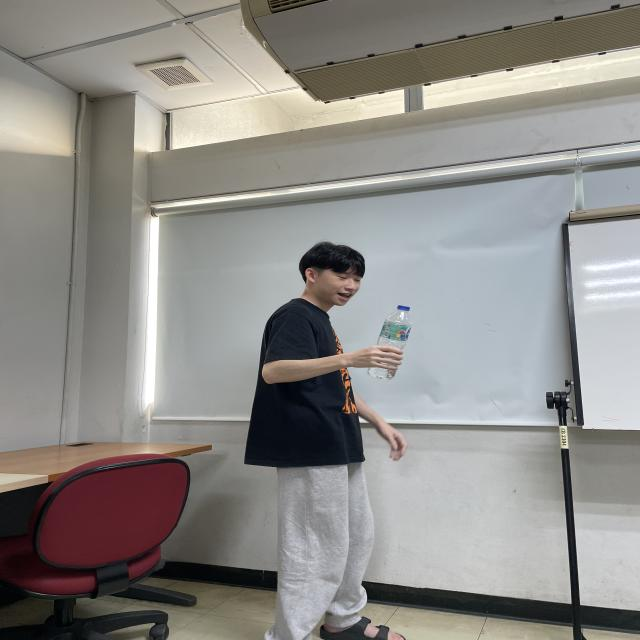bottle: (367, 304, 412, 381)
